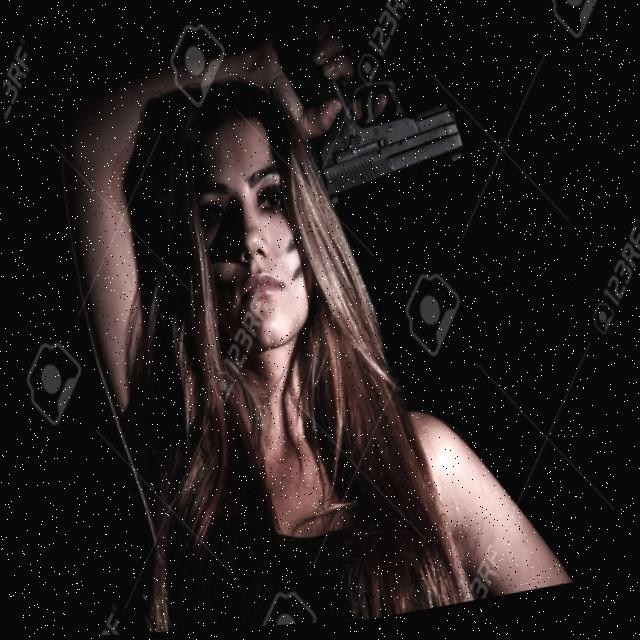pistol: (304, 67, 470, 214)
